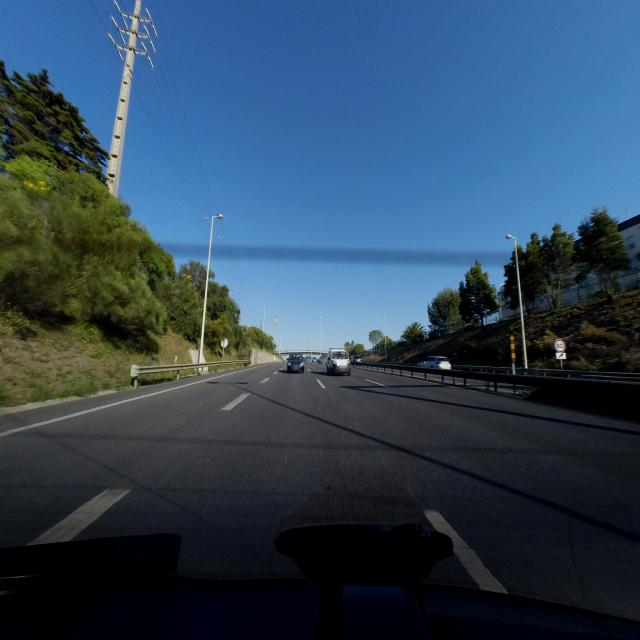car: (326, 348, 351, 376), (418, 355, 452, 370), (286, 352, 306, 373)
